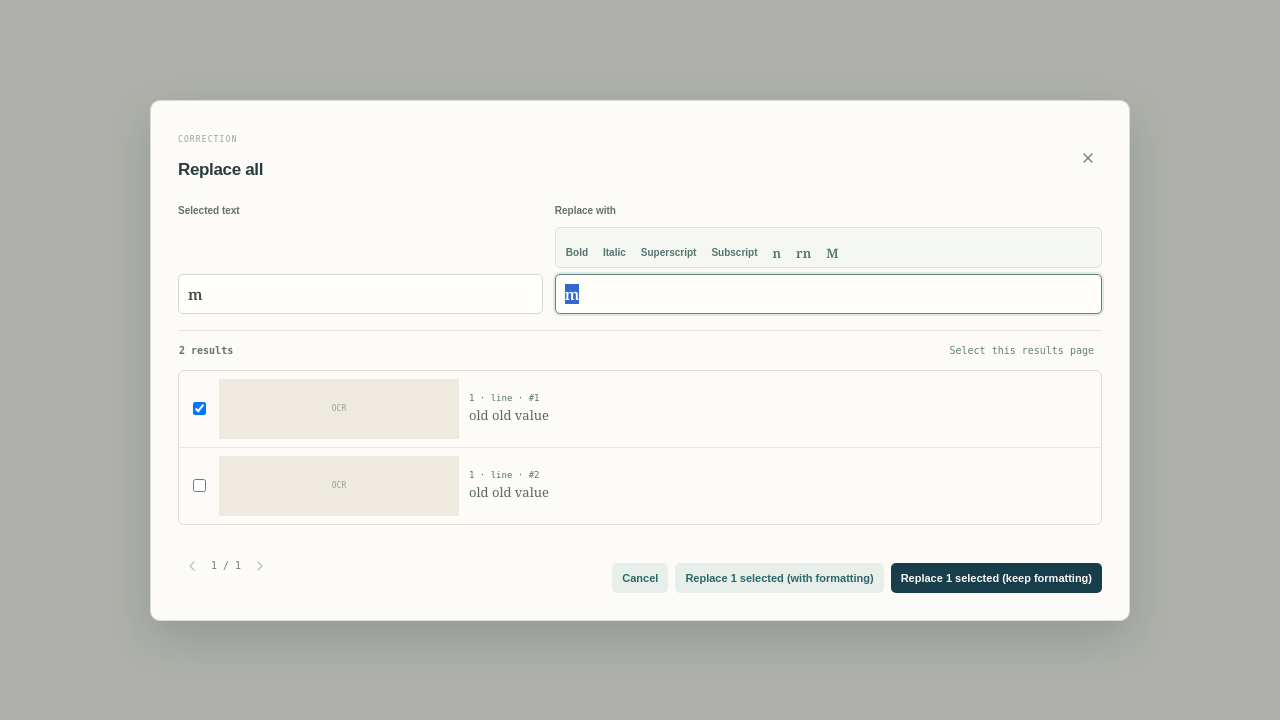
Test: BulkReplaceDialog › offers the original selection's OCR alternatives in the replacement editor
The image size is (1280, 720).
Click the button "n": (777,247) left=766, top=232, right=787, bottom=263
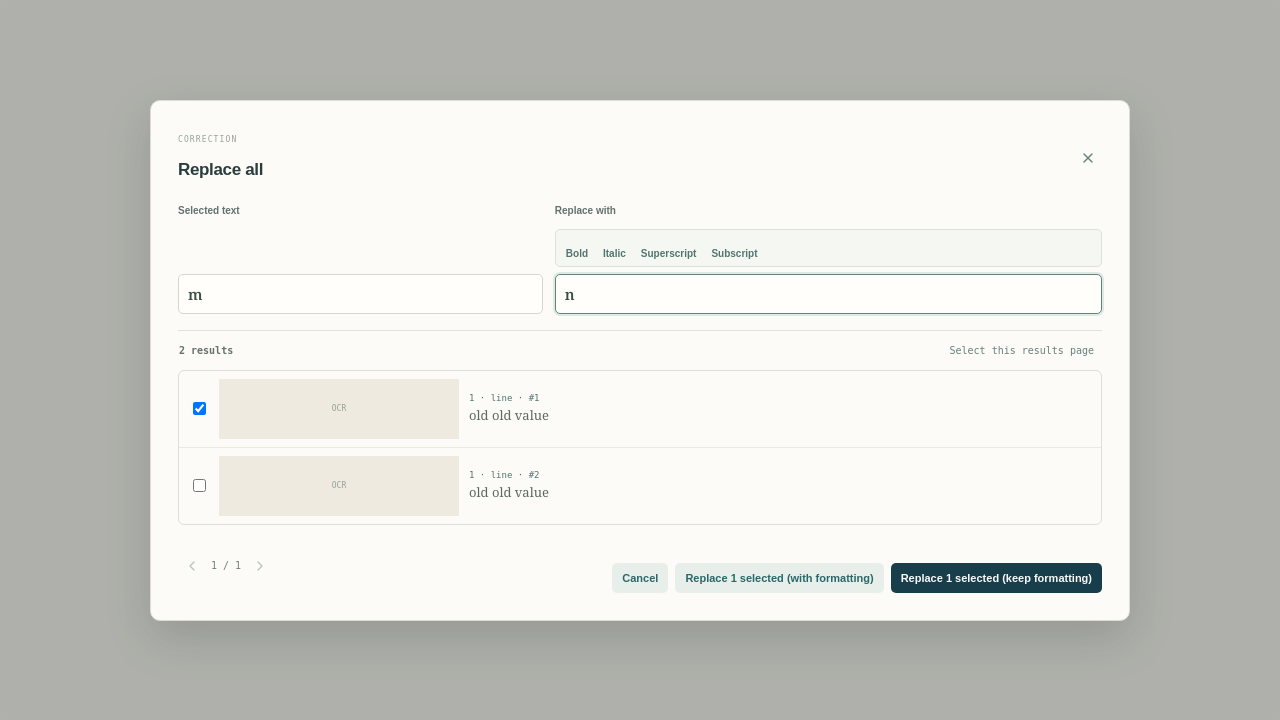
Expected: the 2nd field holds "n", left=555, top=274, right=1102, bottom=314
